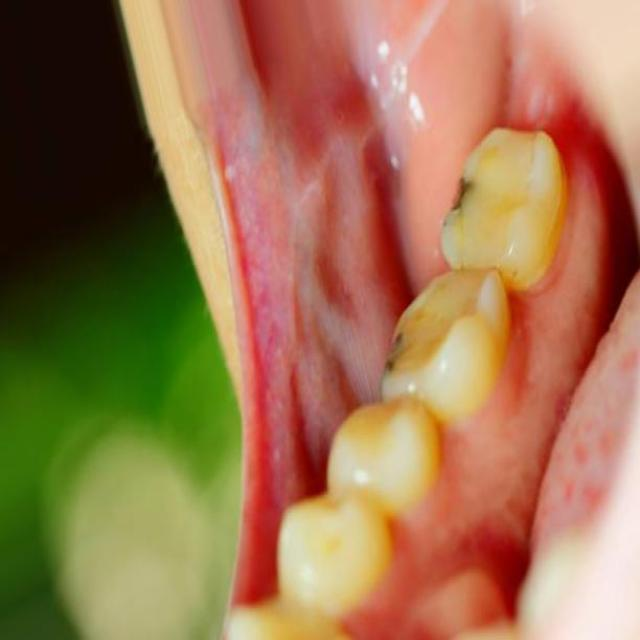caries: (440, 163, 484, 235), (373, 321, 410, 392)
